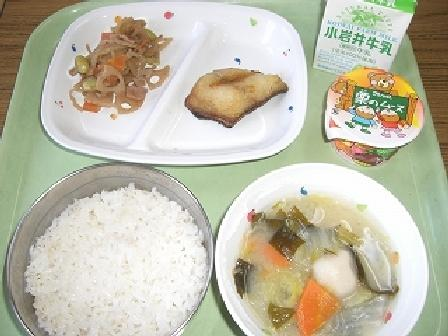Fish: (179, 55, 293, 137)
Milk: (305, 0, 424, 77)
Rice: (8, 169, 209, 335)
Soups: (222, 179, 422, 335)
salad with sauce: (59, 11, 177, 117)
